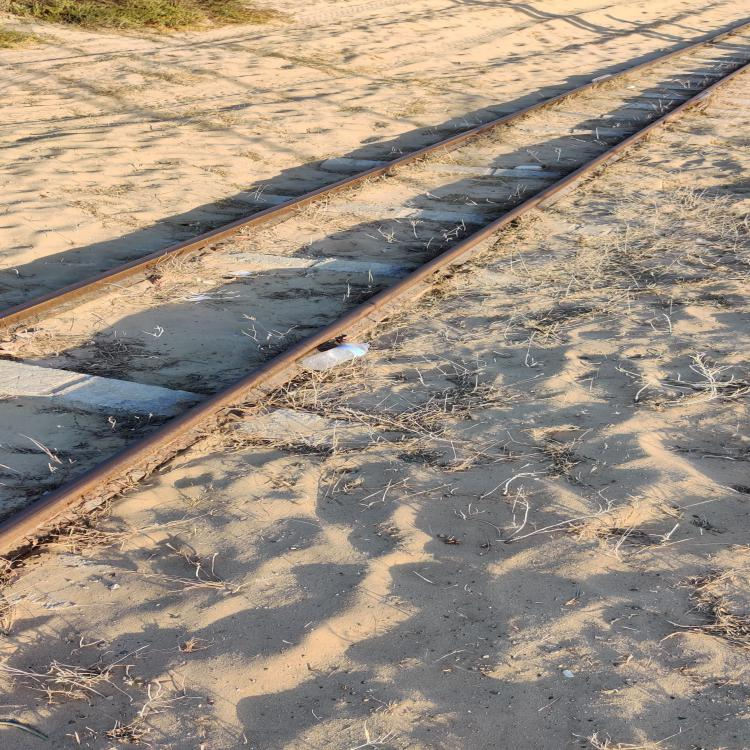Clear plastic bottle: (302, 343, 370, 370)
Unlabeled litter: (228, 270, 252, 277), (188, 297, 210, 302), (515, 166, 541, 170), (626, 85, 636, 89)
